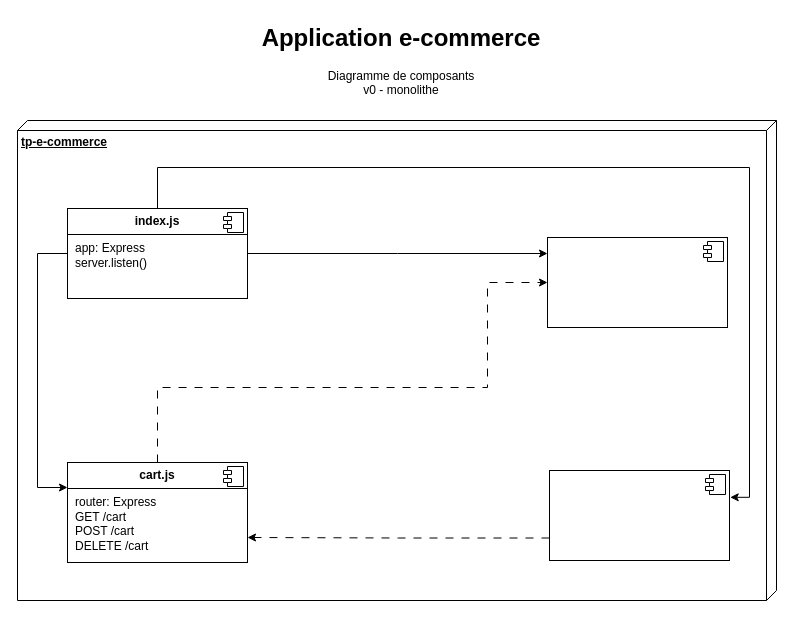
Some shapes in this 794 by 618 pixel diagram are drawn without their labels. The shapes that lost their labels are listed below. From the top down, each one's box as (x1, y1, x2, y2) in pixels, then its label:
(546, 236, 728, 328): products.js router: Express GET /products
(548, 470, 730, 560): orders.js router: Express GET /orders POST /orders
